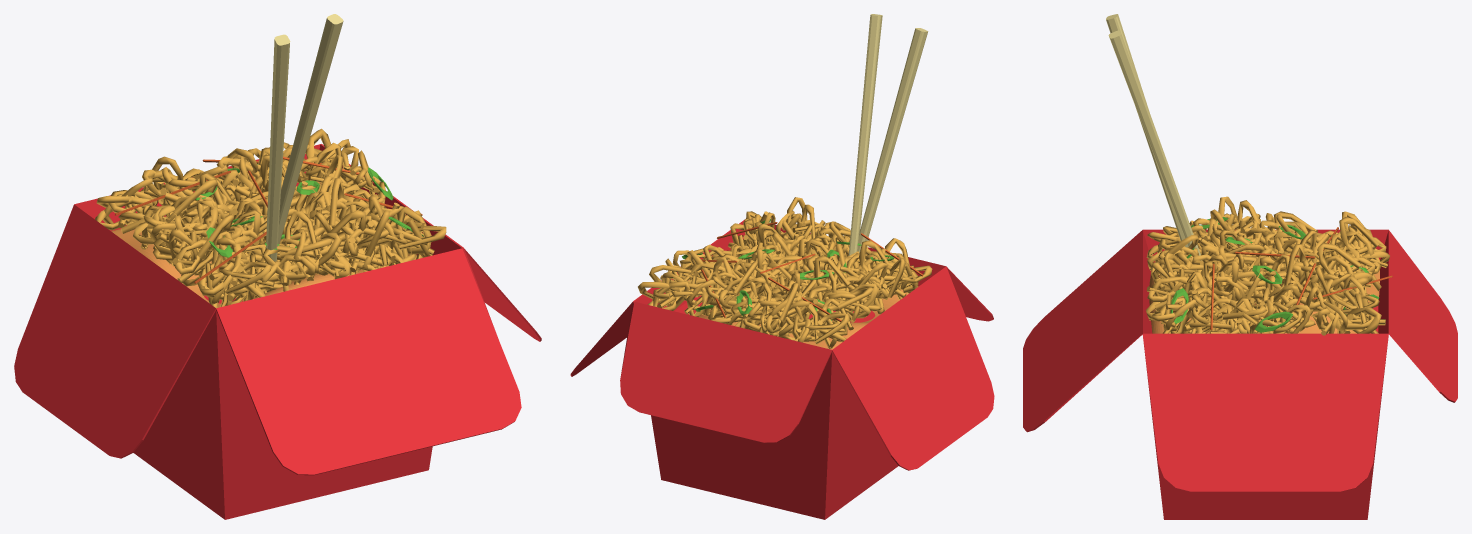
File: C_NoodleBox.fbx
3 renders of one model, left to right at view 1: azimuth 30°, elevation 25°; view 2: azimuth 150°, elevation 25°; view 3: azimuth 270°, elevation 25°, orthographic. The views are drawn at different scales.
Visible parts, largest first — view 1: 01_Box, 02_Noodles, 06_Chopstick.001, 06_Chopstick, 03_Inner_stuff, 04_Onions, 05_Carrots; view 2: 01_Box, 02_Noodles, 06_Chopstick, 06_Chopstick.001, 04_Onions, 05_Carrots, 03_Inner_stuff; view 3: 01_Box, 02_Noodles, 06_Chopstick.001, 04_Onions, 06_Chopstick, 03_Inner_stuff, 05_Carrots.
Boxes of the visible parts, x1,y1,x2,y2 form: 01_Box: (14,144,541,519); 02_Noodles: (95,128,446,308); 06_Chopstick.001: (265,14,343,248); 06_Chopstick: (266,34,290,263); 03_Inner_stuff: (111,229,362,307); 04_Onions: (195,163,423,257); 05_Carrots: (115,156,422,283); 01_Box: (570,220,994,519); 02_Noodles: (638,197,932,348); 06_Chopstick: (857,28,928,252); 06_Chopstick.001: (848,14,882,255); 04_Onions: (682,219,894,320); 05_Carrots: (701,222,923,321); 03_Inner_stuff: (694,289,907,349); 01_Box: (1023,229,1457,519); 02_Noodles: (1146,196,1389,335); 06_Chopstick.001: (1108,30,1201,260); 04_Onions: (1170,217,1379,332); 06_Chopstick: (1106,14,1188,247); 03_Inner_stuff: (1149,270,1379,333); 05_Carrots: (1210,227,1392,329).
Bounding box in the file's own units: 101 × 114 × 103.
